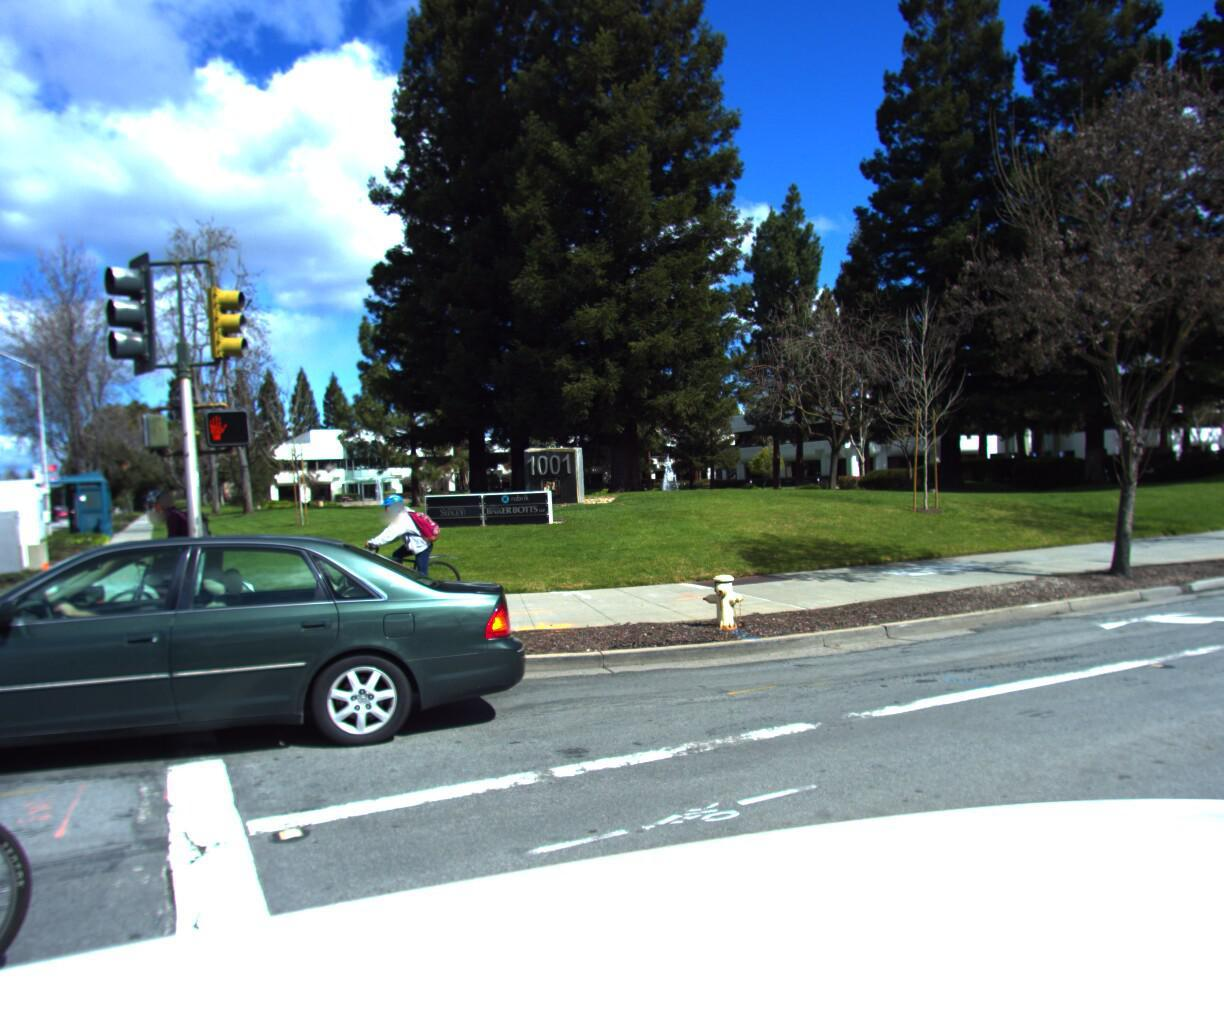bicycle: (0, 394, 156, 1024), (74, 474, 262, 642), (301, 472, 475, 629)
car: (0, 517, 542, 854), (0, 513, 26, 539)
